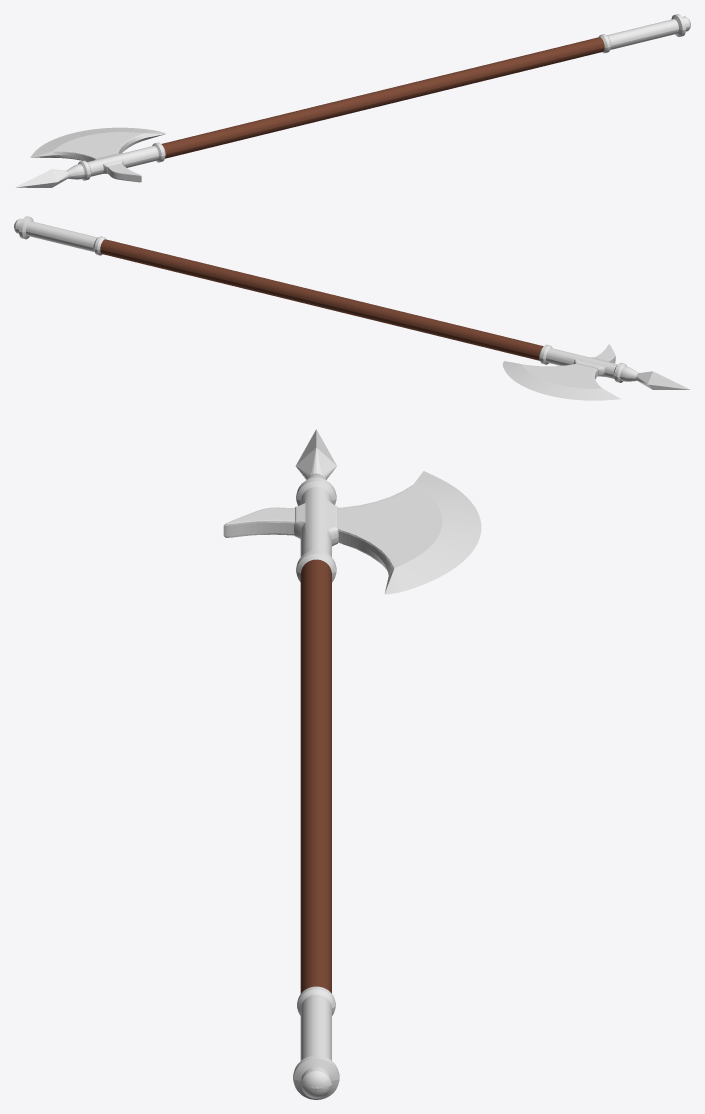
The model's file is ハルバード.fbx.
3 views of the same model, one above another, from view 1: azimuth 30°, elevation 25°; view 2: azimuth 150°, elevation 25°; view 3: azimuth 270°, elevation 25° (orthographic). The views are drawn at different scales.
Visible parts, largest first — view 1: ハルバード; view 2: ハルバード; view 3: ハルバード.
Part boxes in pixels (x1,y1,x2,y2): ハルバード: (15, 14, 690, 187); ハルバード: (14, 216, 690, 400); ハルバード: (223, 429, 481, 1099).
Size of the model in its own units: 100 by 2.92 by 16.53.
